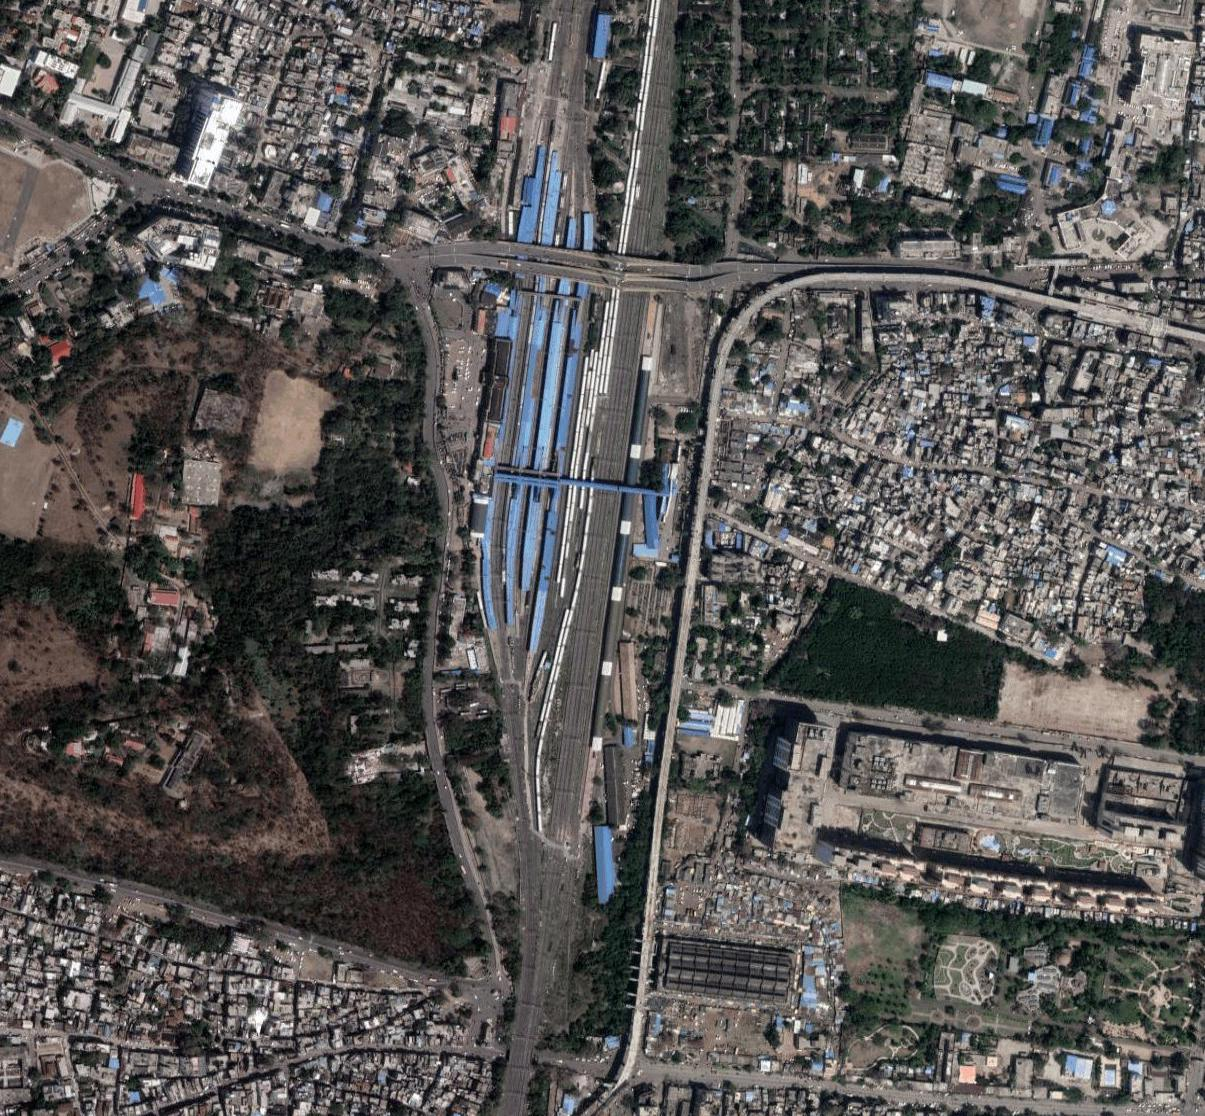bridge: (483, 233, 621, 288)
train_station: (451, 222, 662, 629)
